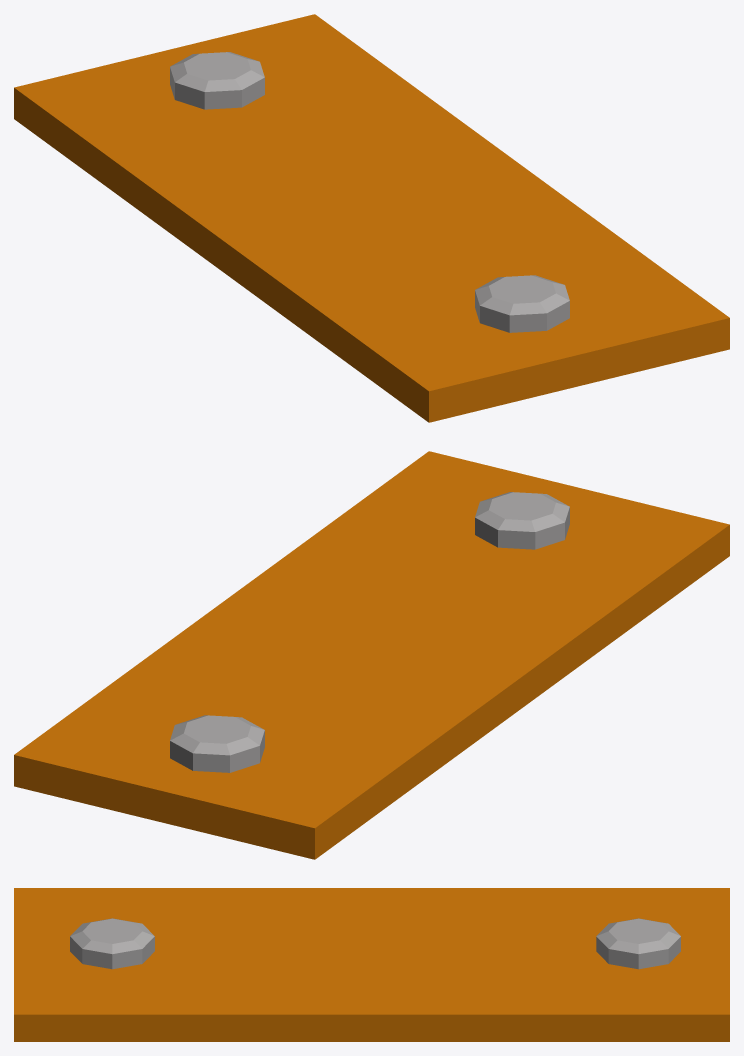
File: Xylophone_03.fbx
3 renders of one model, top to bottom at view 1: azimuth 30°, elevation 25°; view 2: azimuth 150°, elevation 25°; view 3: azimuth 270°, elevation 25°, orthographic. The views are drawn at different scales.
Visible parts, largest first — view 1: Xylophone_03; view 2: Xylophone_03; view 3: Xylophone_03.
Part boxes in pixels (x1,y1,x2,y2): Xylophone_03: (14,14,729,422); Xylophone_03: (14,451,729,859); Xylophone_03: (14,888,729,1041).
Size of the model in its own units: 100 by 17.38 by 239.
